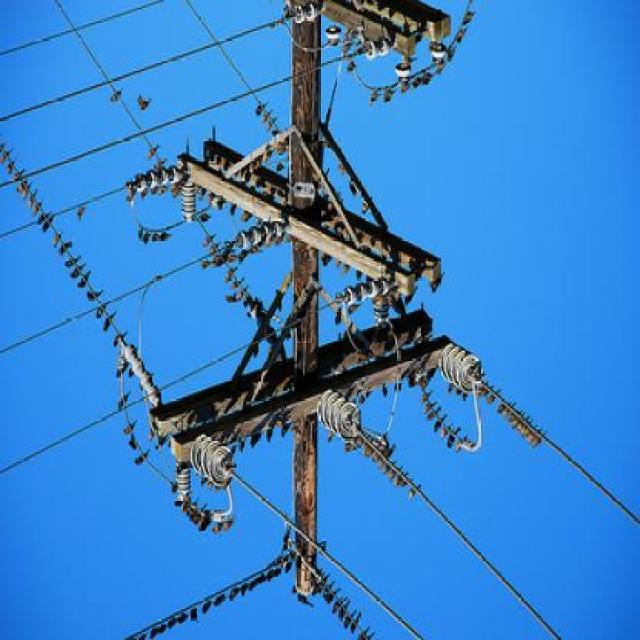pole: (101, 3, 494, 592)
